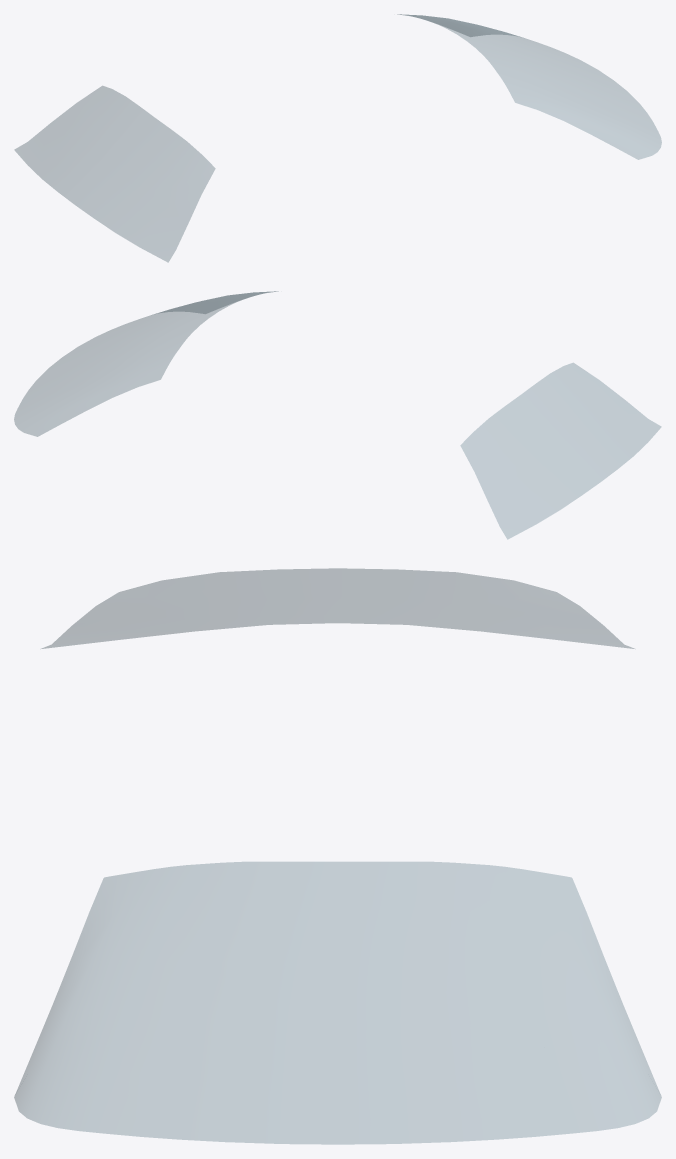
The picture shows the model from 3 angles, top to bottom: view 1: azimuth 30°, elevation 25°; view 2: azimuth 150°, elevation 25°; view 3: azimuth 270°, elevation 25°; orthographic projection. The views are drawn at different scales.
Visible parts, largest first — view 1: SM_FordCrown02_Glass_Ext2; view 2: SM_FordCrown02_Glass_Ext2; view 3: SM_FordCrown02_Glass_Ext2.
Part boxes in pixels (x1,y1,x2,y2): SM_FordCrown02_Glass_Ext2: (14, 14, 661, 262); SM_FordCrown02_Glass_Ext2: (14, 291, 661, 539); SM_FordCrown02_Glass_Ext2: (14, 568, 661, 1144).
Bounding box in the file's own units: 2.87 × 0.4026 × 1.54.
